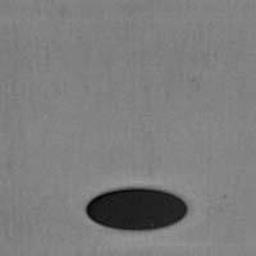Punching: (86, 188, 187, 233)
